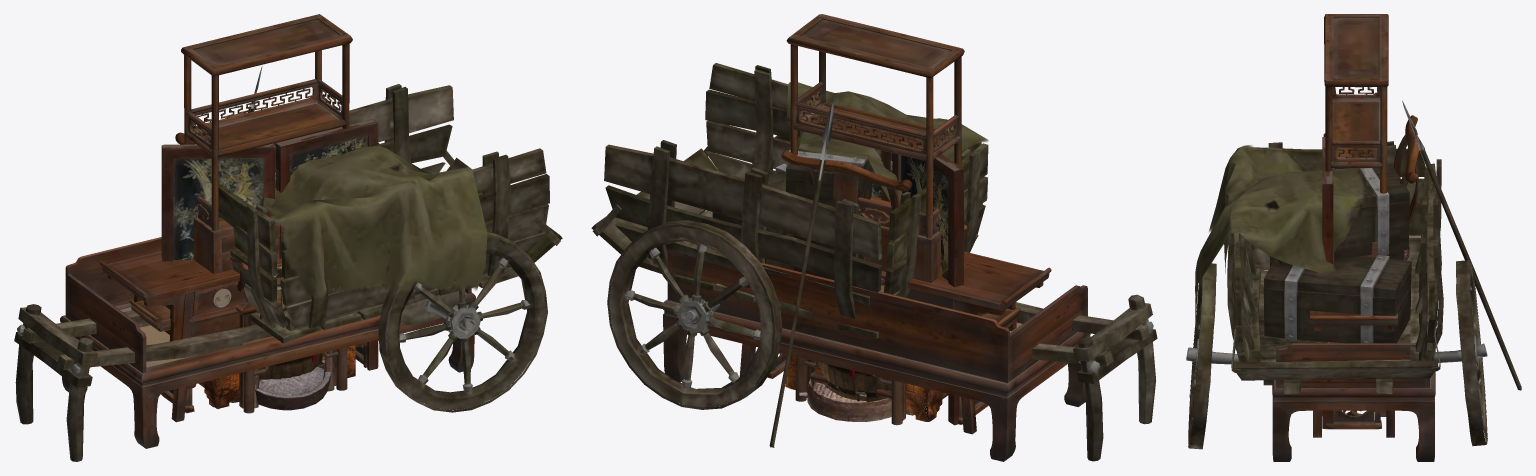
File: props.glb
The picture shows the model from 3 angles, left to right: view 1: azimuth 30°, elevation 25°; view 2: azimuth 150°, elevation 25°; view 3: azimuth 270°, elevation 25°; orthographic projection. The views are drawn at different scales.
Visible parts, largest first — view 1: m_escort_cart, chinese_cabinet, chinese_sofa, chinese_screen_panels_a, chinese_commode, LO, Arkku.004_Material_0, chinese_tea_table, chinese_console_table, wine_barrel_01_Lid, chinese_armchair; view 2: m_escort_cart, chinese_sofa, chinese_cabinet, chinese_commode, chinese_screen_panels_a, chinese_armchair, LO, wine_barrel_01_Lid, Arkku.004_Material_0, chinese_tea_table, chinese_console_table; view 3: m_escort_cart, chinese_cabinet, chinese_sofa, chinese_commode, chinese_screen_panels_a, chinese_armchair, chinese_console_table.
Part boxes in pixels (bbox=[...]): m_escort_cart: bbox=[14, 66, 562, 461]; chinese_cabinet: bbox=[181, 14, 352, 407]; chinese_sofa: bbox=[60, 237, 475, 448]; chinese_screen_panels_a: bbox=[161, 119, 378, 370]; chinese_commode: bbox=[99, 251, 378, 422]; LO: bbox=[255, 360, 331, 410]; Arkku.004_Material_0: bbox=[198, 345, 355, 409]; chinese_tea_table: bbox=[240, 336, 347, 413]; chinese_console_table: bbox=[129, 299, 363, 413]; wine_barrel_01_Lid: bbox=[254, 266, 322, 379]; chinese_armchair: bbox=[175, 112, 336, 408]; m_escort_cart: bbox=[591, 63, 1157, 461]; chinese_sofa: bbox=[663, 241, 1090, 461]; chinese_cabinet: bbox=[786, 14, 964, 420]; chinese_commode: bbox=[739, 251, 1051, 434]; chinese_screen_panels_a: bbox=[790, 102, 963, 425]; chinese_armchair: bbox=[781, 150, 967, 420]; LO: bbox=[799, 379, 891, 421]; wine_barrel_01_Lid: bbox=[820, 283, 891, 401]; Arkku.004_Material_0: bbox=[785, 354, 948, 421]; chinese_tea_table: bbox=[795, 356, 902, 425]; chinese_console_table: bbox=[767, 307, 1020, 424]; m_escort_cart: bbox=[1186, 100, 1521, 449]; chinese_cabinet: bbox=[1324, 14, 1388, 416]; chinese_sofa: bbox=[1272, 191, 1435, 461]; chinese_commode: bbox=[1310, 310, 1397, 437]; chinese_screen_panels_a: bbox=[1322, 92, 1376, 428]; chinese_armchair: bbox=[1393, 115, 1419, 224]; chinese_console_table: bbox=[1326, 342, 1381, 429].
Bounding box in the file's own units: 3.2 × 2.2 × 1.99.
33 materials, 33 textured.
